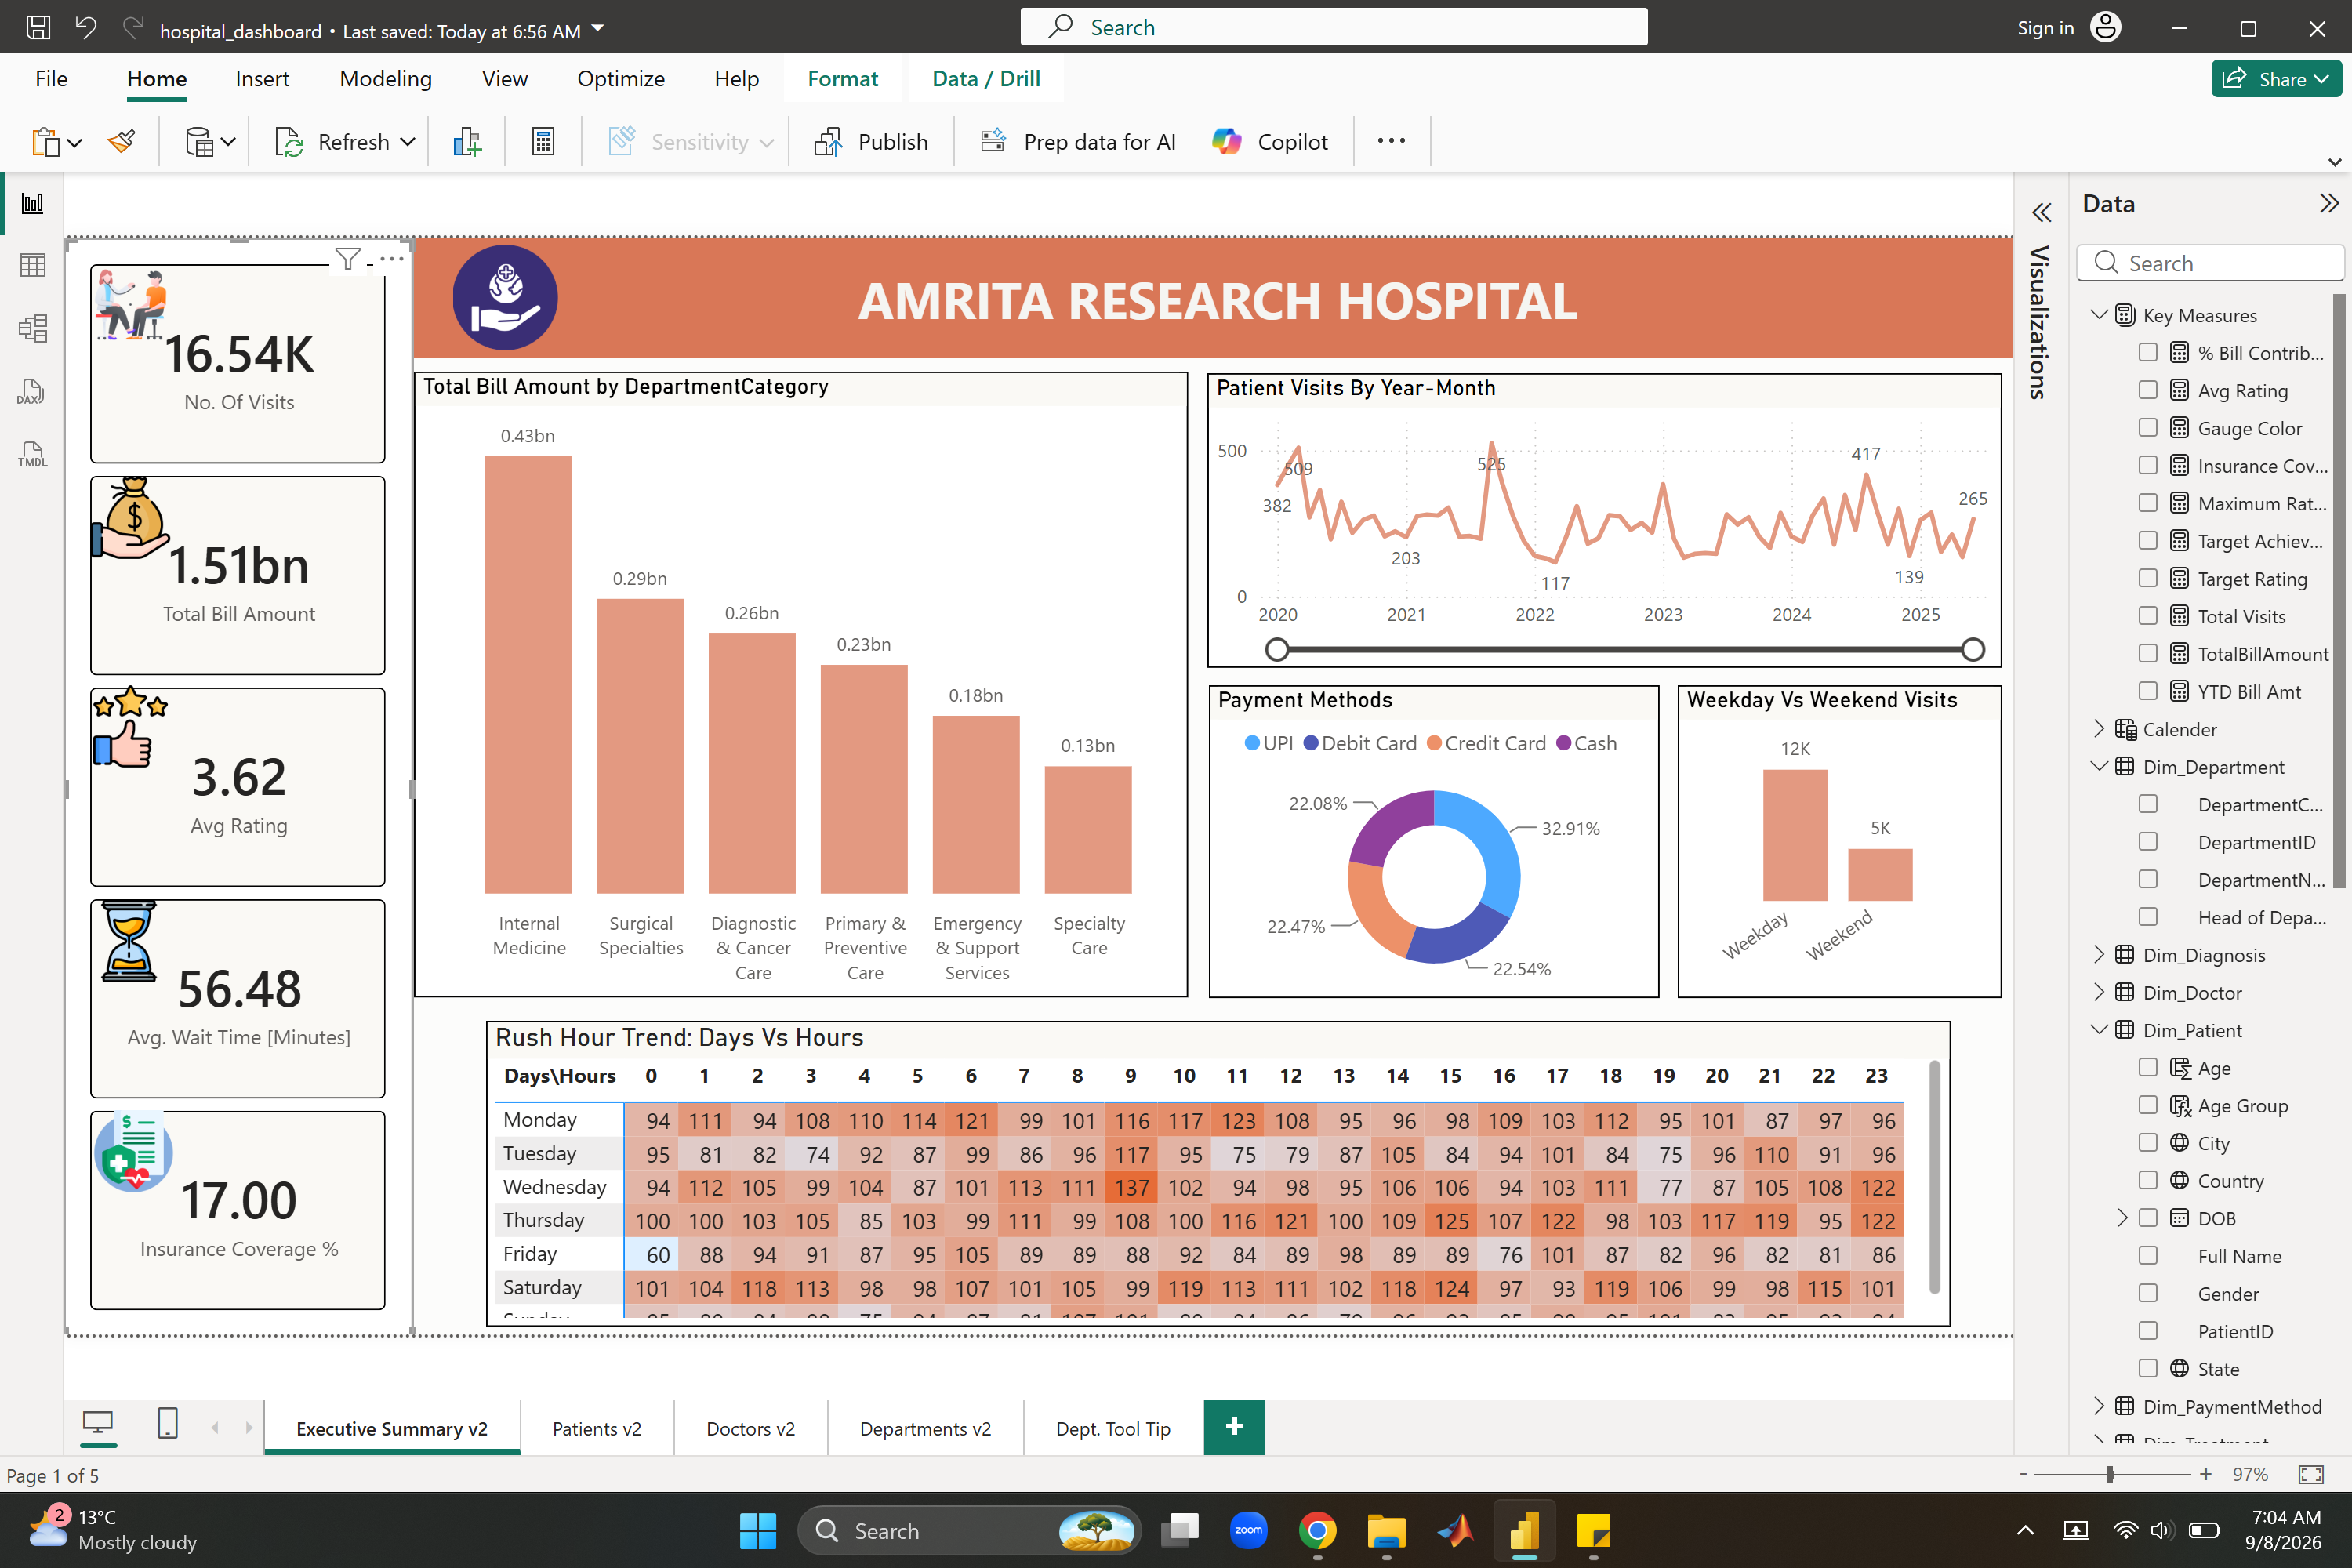

Layout of this report page (visuals, bound fields, positions):
{"tool":"powerbi","page":{"name":"Executive Summary v2","canvas":[1280,720],"ordinal":0},"visuals":[{"type":"shape","box":[229.2,0,1055.9,78.6],"z":0},{"type":"clusteredColumnChart","title":"Total Bill Amount by DepartmentCategory","fields":{"Y":["Key Measures.TotalBillAmount"],"Category":["Dim_Department.DepartmentCategory"]},"box":[229.2,87.6,508.7,410.8],"z":2000},{"type":"clusteredColumnChart","title":"Weekday Vs Weekend Visits","fields":{"Category":["fact_patientVisits.Visit Day Type"],"Y":["CountNonNull(fact_patientVisits.VisitID)"]},"box":[1059.8,293.5,212.9,205.7],"z":3000},{"type":"donutChart","title":" Payment Methods","fields":{"Y":["Key Measures.TotalBillAmount"],"Category":["Dim_PaymentMethod.PaymentMethod"]},"box":[751.9,293.5,295.9,205.7],"z":4000},{"type":"lineChart","title":"Patient Visits By Year-Month","fields":{"Category":["Calender.Year-Month"],"Y":["CountNonNull(fact_patientVisits.VisitID)"]},"box":[750.7,89,522.1,193.7],"z":5000},{"type":"group","id":"g1","title":"Card Elements","box":[0,0,229.2,723.7],"z":6000},{"type":"cardVisual","fields":{"Data":["Key Measures.Total Visits","Key Measures.TotalBillAmount","Key Measures.Avg Rating","Avg(fact_patientVisits.WaitTimeMinutes)","Key Measures.Insurance Coverage %"]},"box":[0,0,228.6,723],"z":6000,"group":"g1"},{"type":"image","box":[255,3.9,69.5,69.5],"z":7000},{"type":"image","box":[16.8,16.8,54.1,54.1],"z":7000,"group":"g1"},{"type":"pivotTable","title":"Rush Hour Trend: Days Vs Hours","fields":{"Rows":["Calender.DayOfWeekName"],"Columns":["fact_patientVisits.VisitHour"],"Values":["CountNonNull(fact_patientVisits.VisitID)"]},"box":[276.9,513.8,961.9,200.9],"z":8000},{"type":"image","box":[18,572.6,54.1,54.1],"z":8000,"group":"g1"},{"type":"image","box":[16.8,156.4,54.1,54.1],"z":9000,"group":"g1"},{"type":"image","box":[15.6,434.3,54,54.1],"z":10000,"group":"g1"},{"type":"image","box":[16.8,293.5,54.1,54.1],"z":11000,"group":"g1"}]}

Visuals, with their boxes on the page's 1280x720 design canvas (x1, y1, x2, y2). These are canvas units, not pixel positions in the 2352x1568 screenshot, which may show the page scaled, cropped or inside an application window:
shape: detection(229, 0, 1285, 79)
"Total Bill Amount by DepartmentCategory" clusteredColumnChart: detection(229, 88, 738, 498)
"Weekday Vs Weekend Visits" clusteredColumnChart: detection(1060, 294, 1273, 499)
" Payment Methods" donutChart: detection(752, 294, 1048, 499)
"Patient Visits By Year-Month" lineChart: detection(751, 89, 1273, 283)
"Card Elements" group: detection(0, 0, 229, 724)
cardVisual - Key Measures.Total Visits x Key Measures.TotalBillAmount: detection(0, 0, 229, 723)
image: detection(255, 4, 324, 73)
image: detection(17, 17, 71, 71)
"Rush Hour Trend: Days Vs Hours" pivotTable: detection(277, 514, 1239, 715)
image: detection(18, 573, 72, 627)
image: detection(17, 156, 71, 210)
image: detection(16, 434, 70, 488)
image: detection(17, 294, 71, 348)
